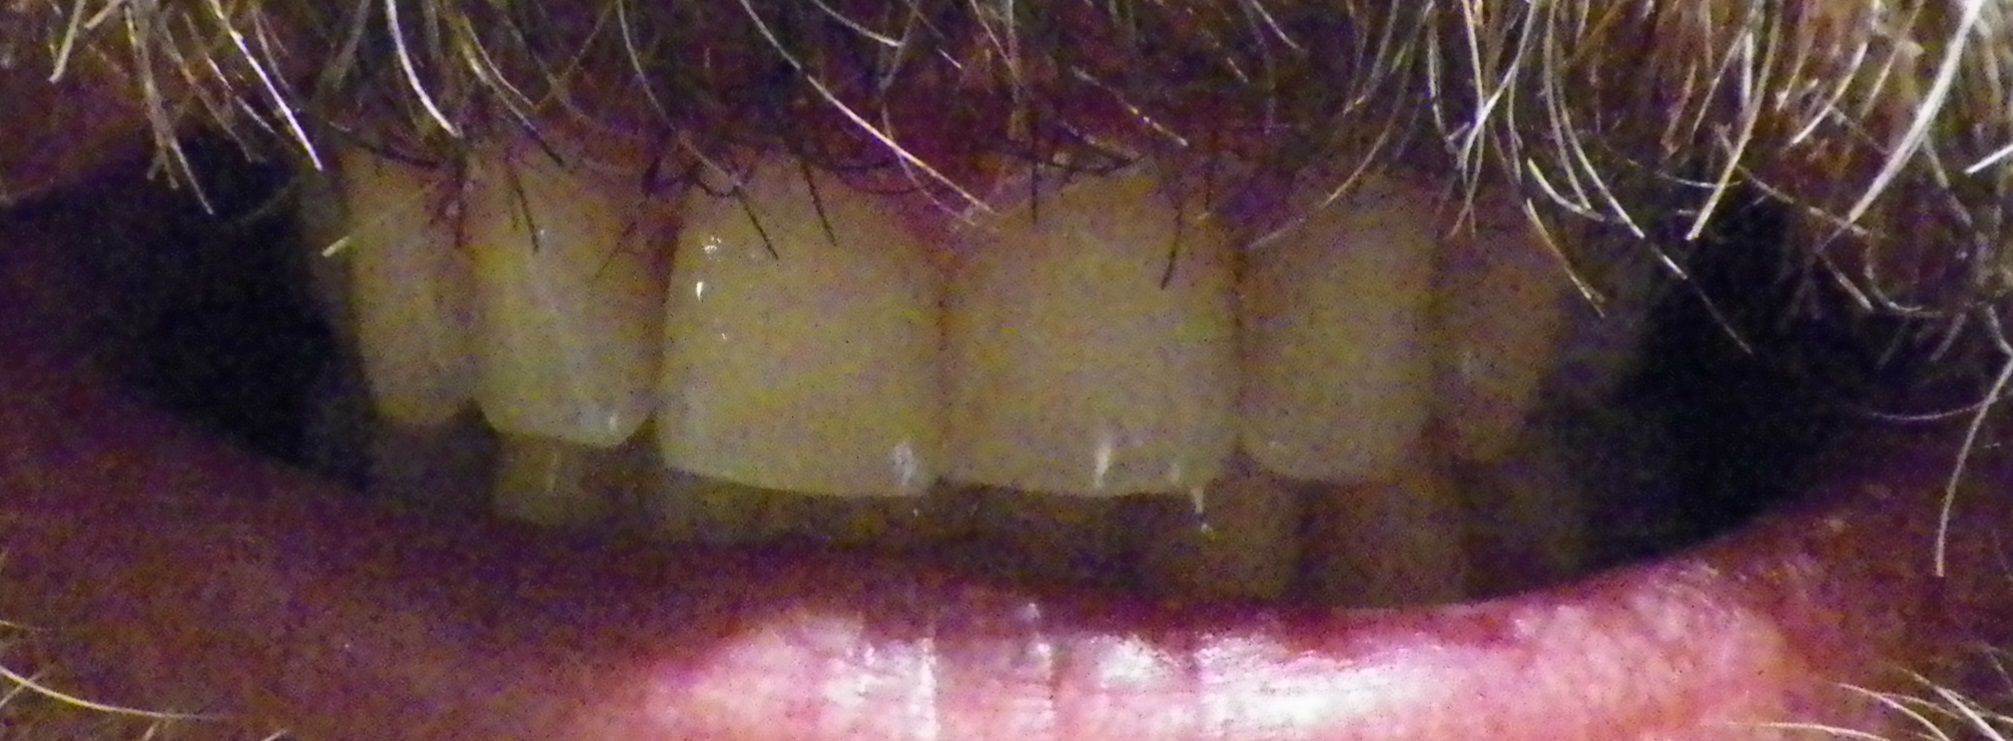boca: (270, 149, 1704, 573)
